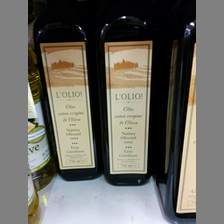oil: (33, 7, 101, 182), (98, 2, 160, 187)
